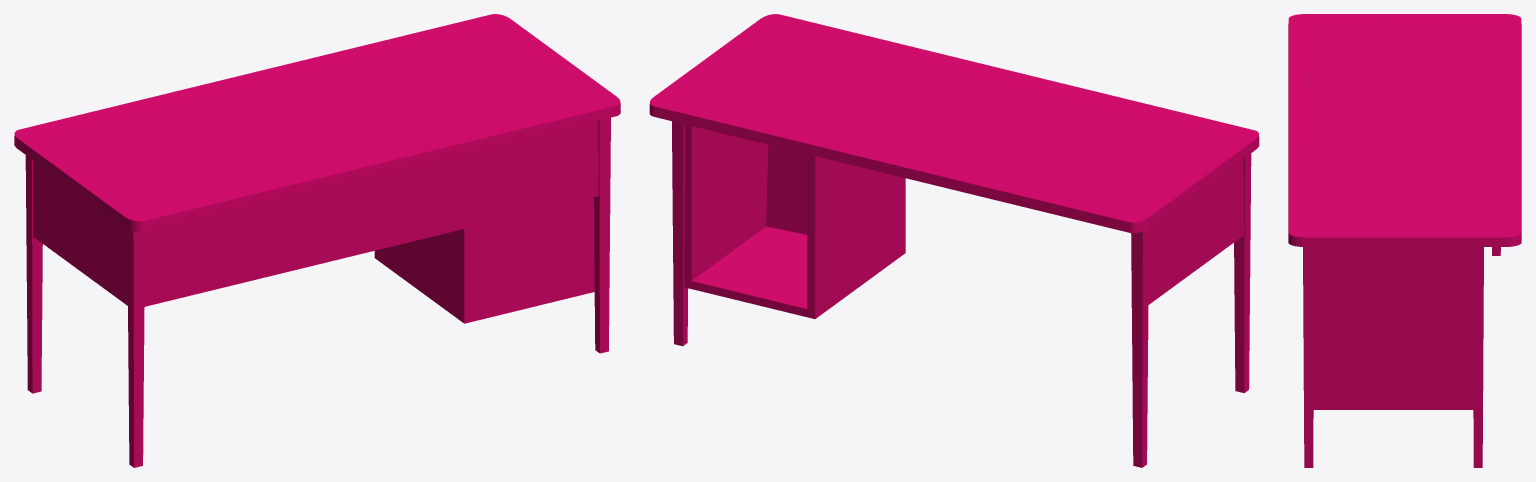
File: Desk_02.fbx
3 views of the same model, side by side, from view 1: azimuth 30°, elevation 25°; view 2: azimuth 150°, elevation 25°; view 3: azimuth 270°, elevation 25° (orthographic). The views are drawn at different scales.
Visible parts, largest first — view 1: Desk_02; view 2: Desk_02; view 3: Desk_02.
Boxes of the visible parts, left/top/right/bottom form: Desk_02: left=14, top=14, right=620, bottom=467; Desk_02: left=649, top=14, right=1259, bottom=467; Desk_02: left=1288, top=14, right=1521, bottom=467.
Size of the model in its own units: 152 by 74.32 by 67.07.
